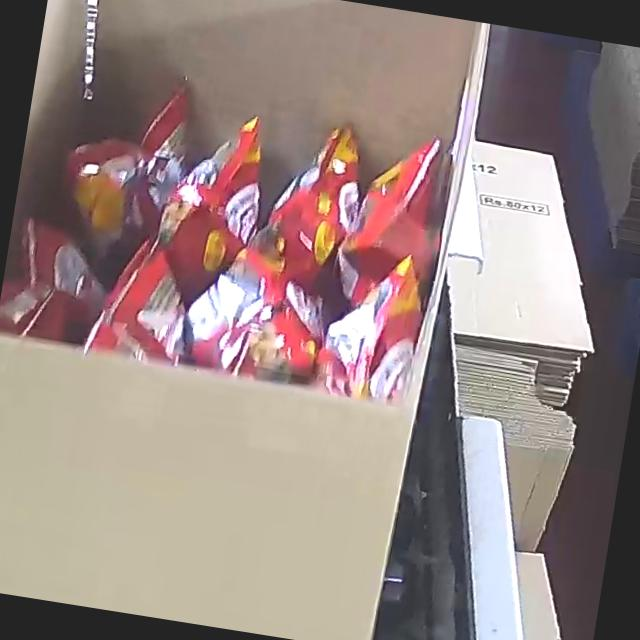masala: (0, 51, 457, 404)
